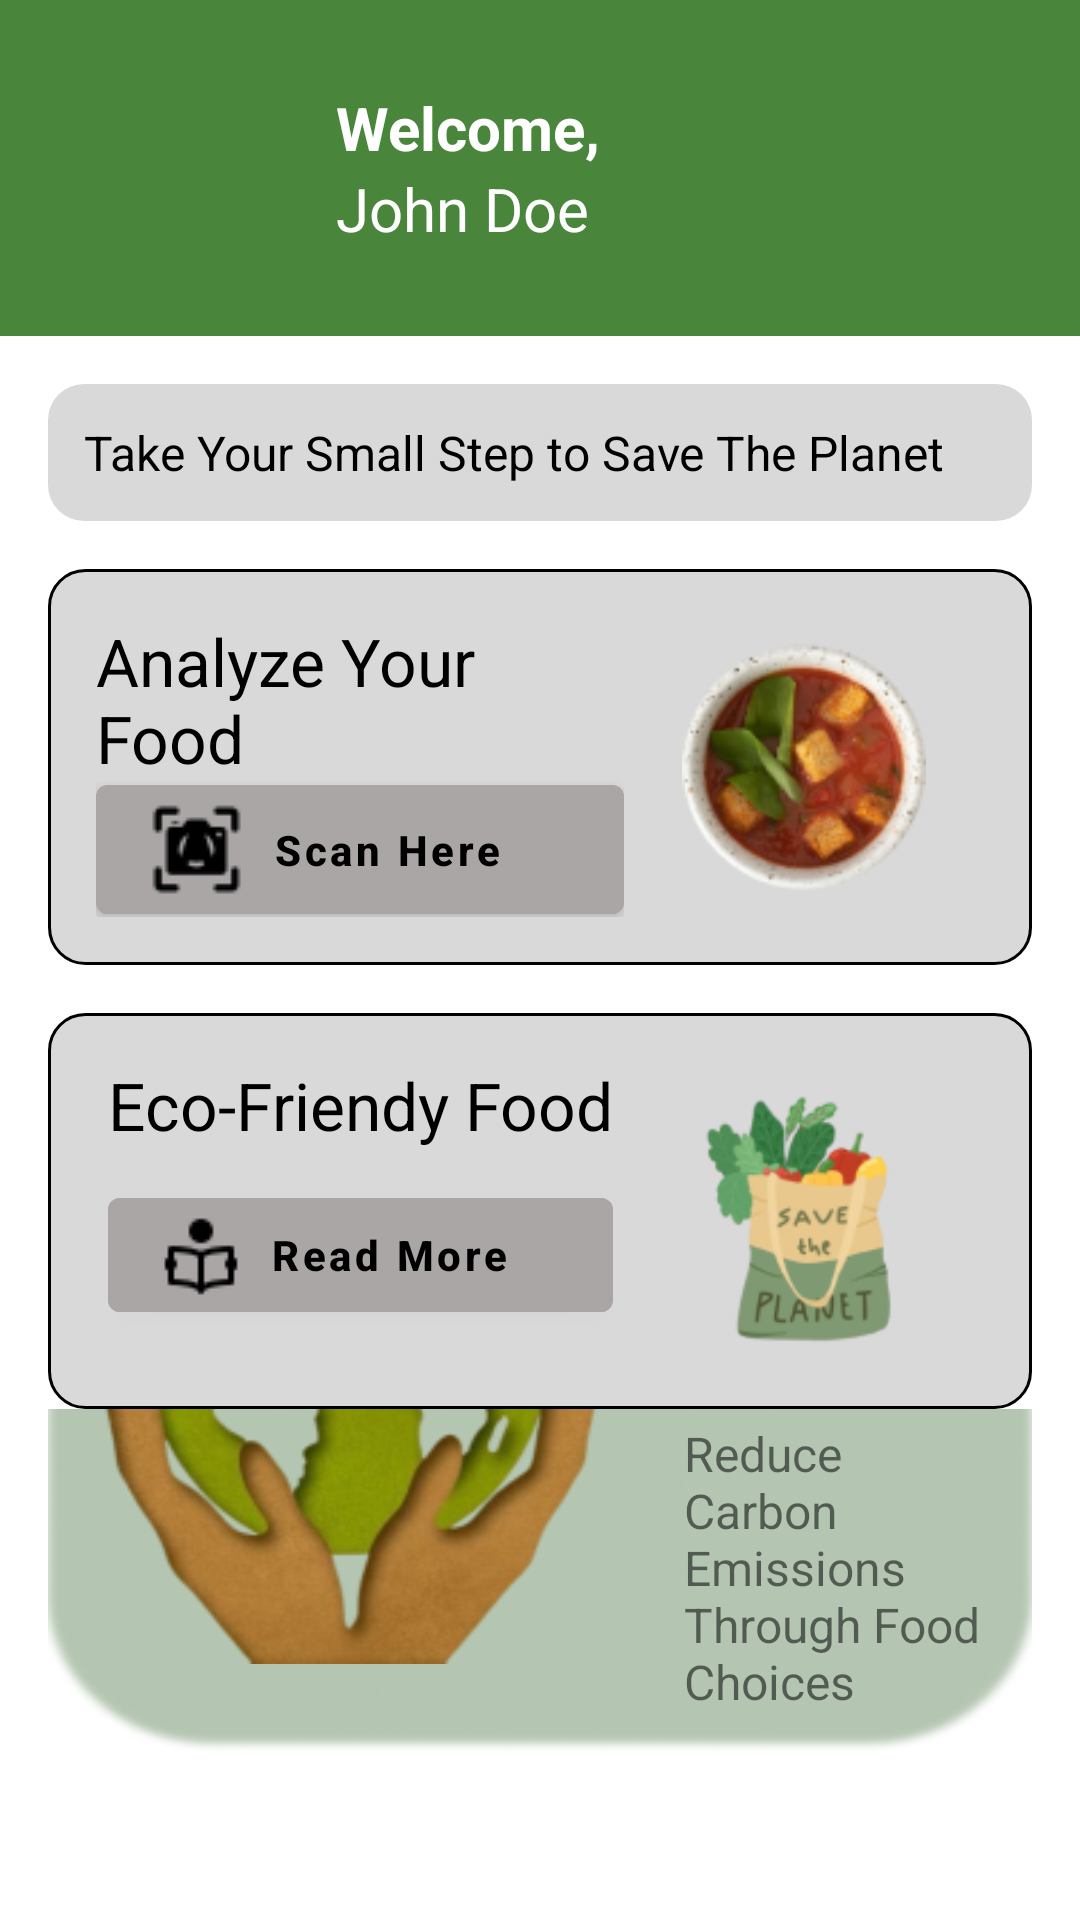

Icons on this 1080 x 1920 Android screen, each with its box as (x1=x1, y1=y1, x2=x2, y2=y2):
food bag home: (x1=706, y1=1097, x2=891, y2=1341)
food home: (x1=682, y1=646, x2=926, y2=884)
